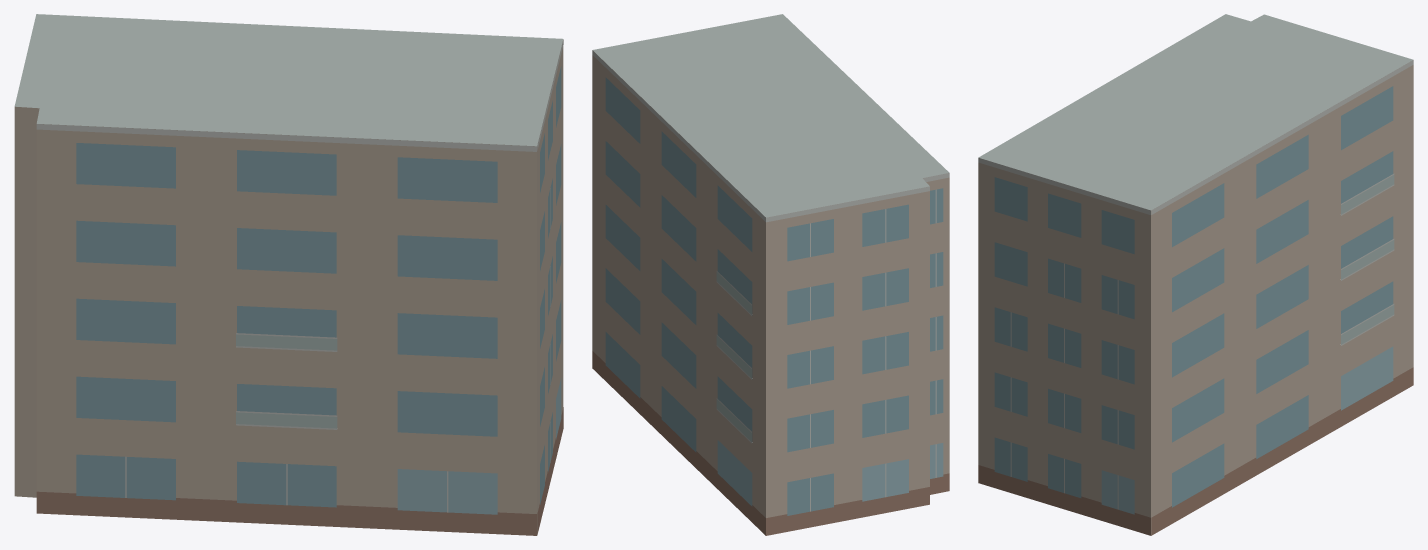
The model's file is survey-upis-32828902.glb.
The picture shows the model from 3 angles, left to right: view 1: azimuth 30°, elevation 25°; view 2: azimuth 150°, elevation 25°; view 3: azimuth 270°, elevation 25°; orthographic projection. The views are drawn at different scales.
Visible parts, largest first — view 1: survey-upis-32828902.tmp; view 2: survey-upis-32828902.tmp; view 3: survey-upis-32828902.tmp.
Boxes of the visible parts, <box> form: survey-upis-32828902.tmp: <box>14,14,563,535</box>; survey-upis-32828902.tmp: <box>592,14,949,535</box>; survey-upis-32828902.tmp: <box>978,14,1413,535</box>.
Size of the model in its own units: 21.38 by 16.5 by 20.02.
